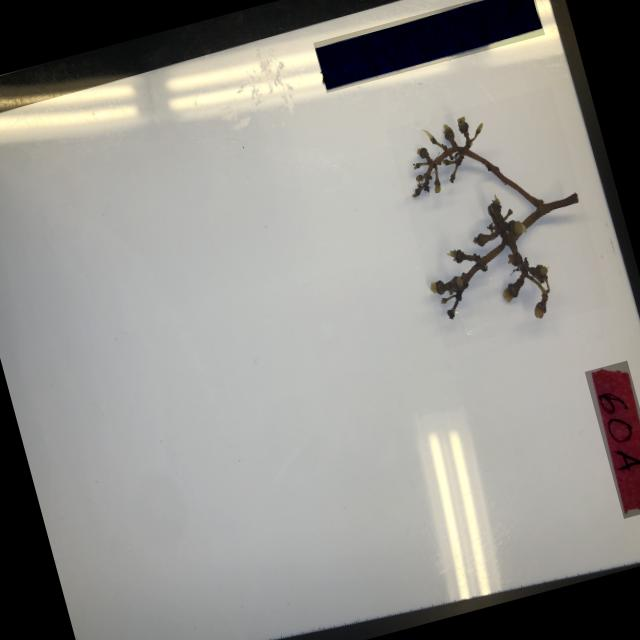index: (583, 360, 640, 518)
measure_label: (312, 0, 544, 93)
rachis_cluster: (385, 86, 609, 350)
